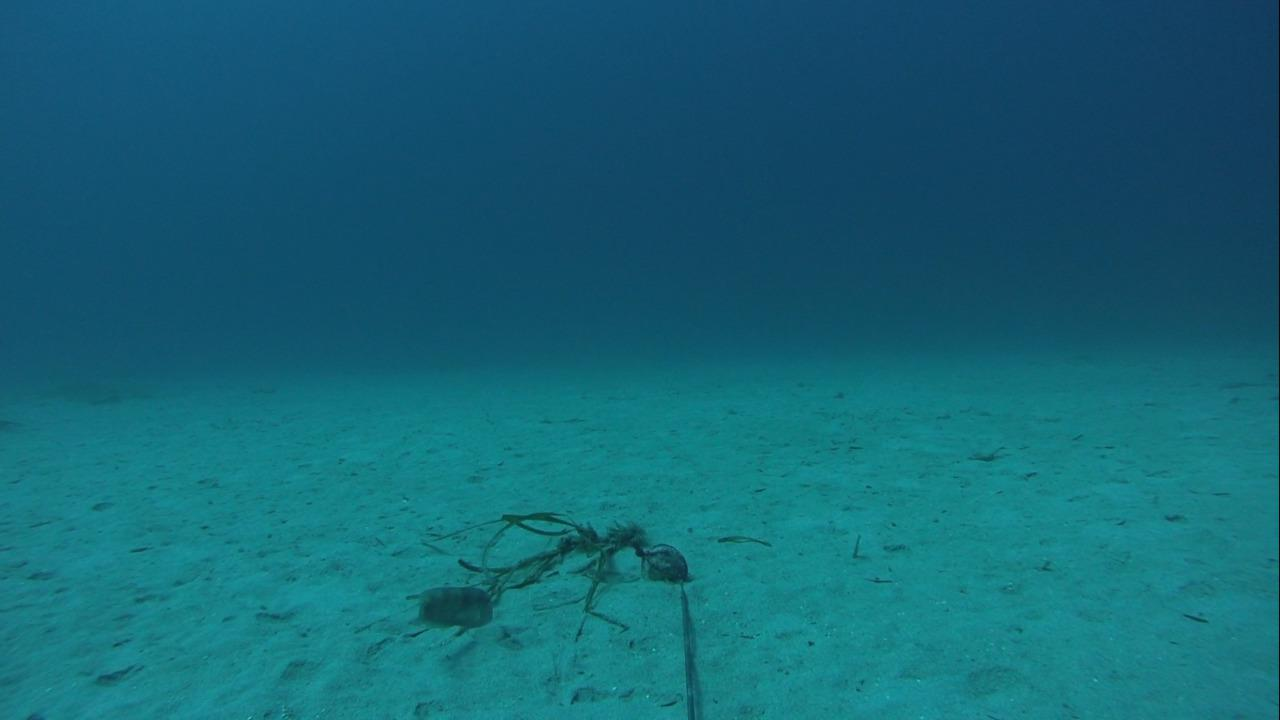raor: (408, 581, 495, 632)
